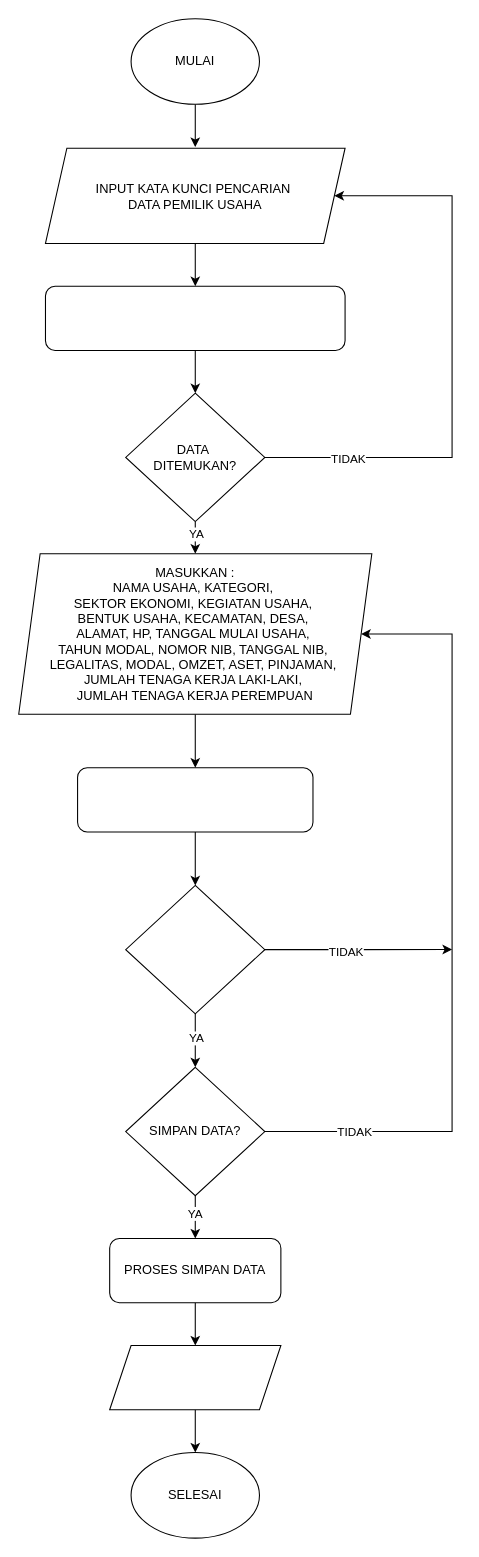
Image size: 479x1557. Some labels were removed from this diagram. The centre of each missing label's shape, as x and y in pixels:
"APLIKASI MELAKUKAN PROSES VALIDASI DATA" goes at point (195, 799).
"CARI DATA PEMILIK USAHA" goes at point (194, 317).
"DATA VALID?" goes at point (195, 949).
"TAMPILKAN DAFTAR USAHA" goes at point (195, 1377).
